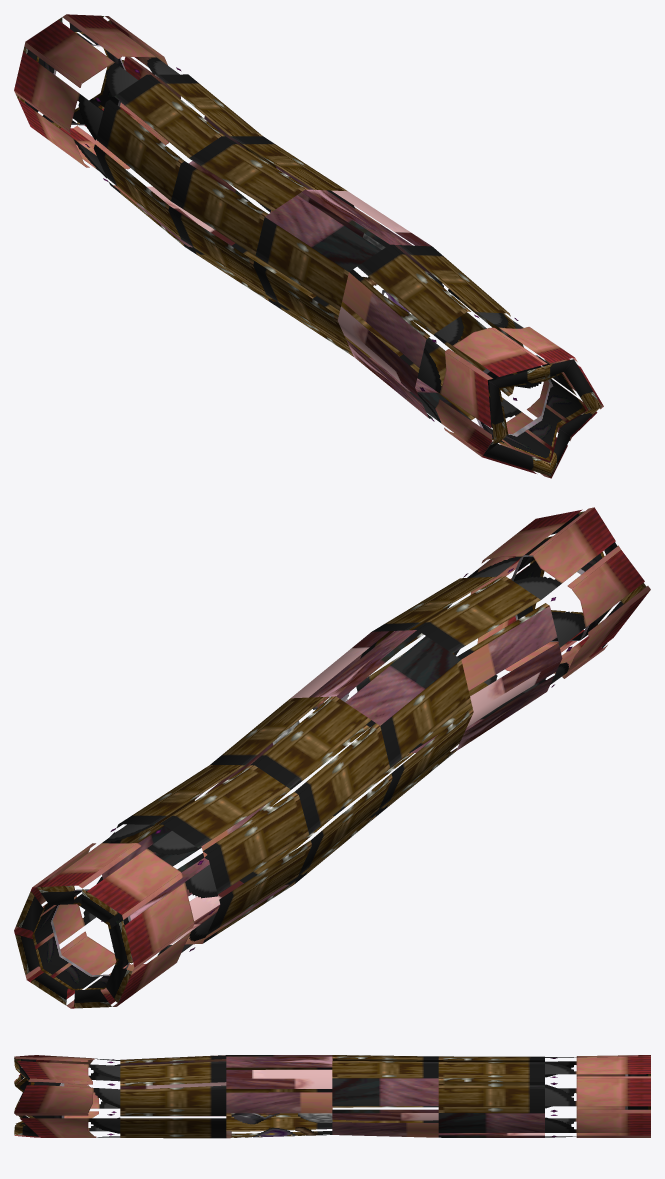
3 views of the same model, one above another, from view 1: azimuth 30°, elevation 25°; view 2: azimuth 150°, elevation 25°; view 3: azimuth 270°, elevation 25° (orthographic). The views are drawn at different scales.
Visible parts, largest first — view 1: T1L6M005_6; view 2: T1L6M005_6; view 3: T1L6M005_6.
Part boxes in pixels (left/top/right/bottom): T1L6M005_6: left=14, top=14, right=603, bottom=478; T1L6M005_6: left=14, top=507, right=650, bottom=1008; T1L6M005_6: left=14, top=1055, right=650, bottom=1138.
Bounding box in the file's own units: 4.45 × 1.38 × 10.
